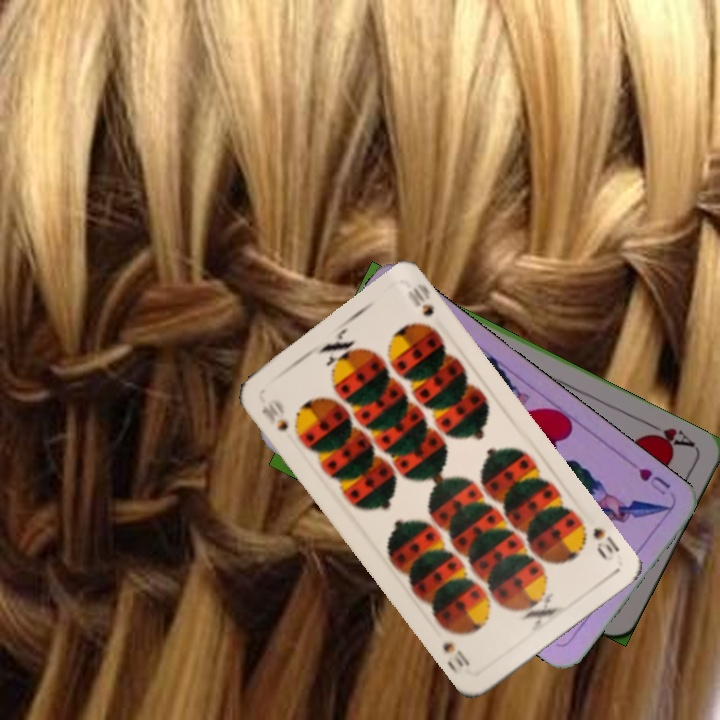HA: (641, 418, 698, 452)
HU: (634, 464, 673, 498)
S10: (589, 524, 623, 564), (257, 395, 291, 434)
